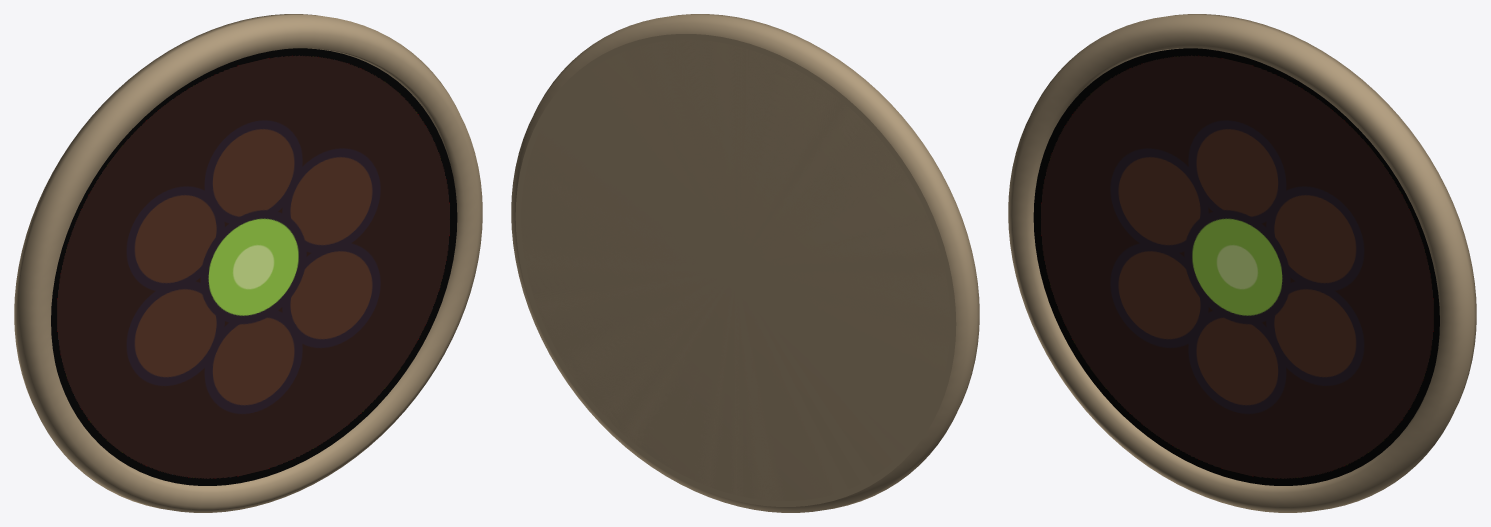
File: vhorr.glb
3 renders of one model, left to right at view 1: azimuth 30°, elevation 25°; view 2: azimuth 150°, elevation 25°; view 3: azimuth 330°, elevation 25°, orthographic.
Visible parts, largest first — view 1: emblem_vhorr; view 2: emblem_vhorr; view 3: emblem_vhorr.
Part boxes in pixels (x1,y1,x2,y2): emblem_vhorr: (14, 14, 482, 512); emblem_vhorr: (511, 14, 979, 512); emblem_vhorr: (1008, 14, 1476, 512).
Size of the model in its own units: 0.966 by 0.966 by 0.069.
2 materials, 1 textured.
